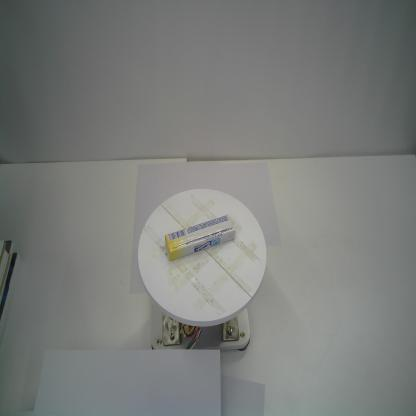Candy: (164, 214, 236, 261)
